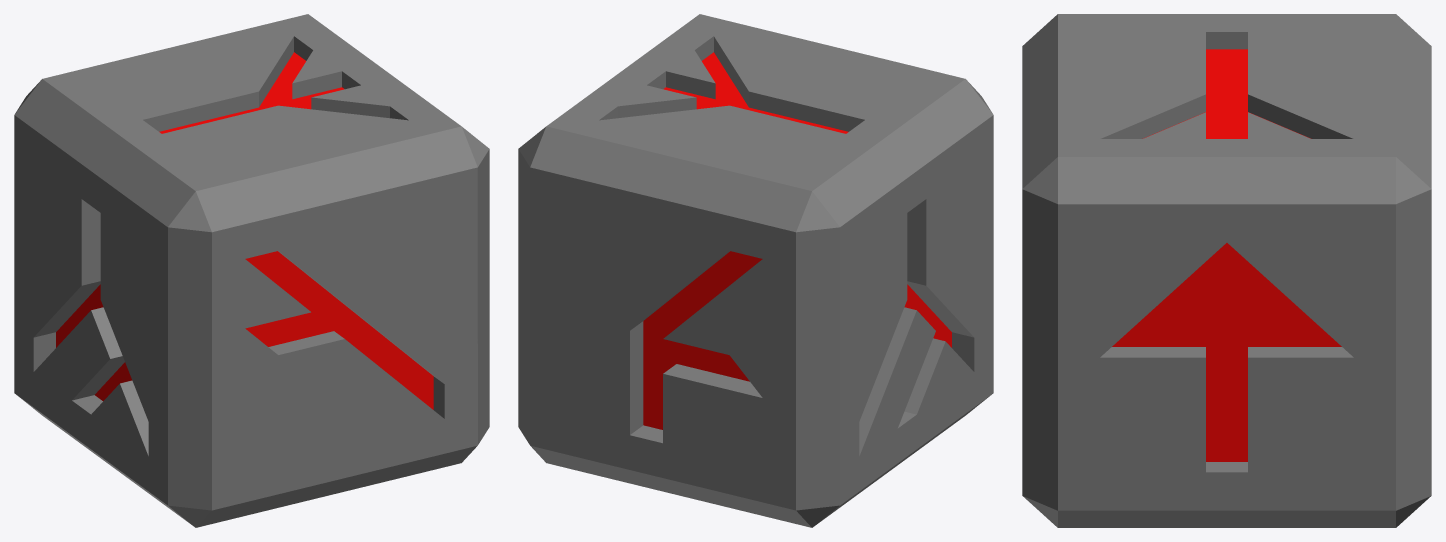
File: puzzle_cube.fbx
3 renders of one model, left to right at view 1: azimuth 30°, elevation 25°; view 2: azimuth 150°, elevation 25°; view 3: azimuth 270°, elevation 25°, orthographic. The views are drawn at different scales.
Parts seen in each view (by area): view 1: Cube; view 2: Cube; view 3: Cube.
Boxes of the visible parts, x1,y1,x2,y2 form: Cube: (14, 14, 489, 527); Cube: (518, 14, 993, 527); Cube: (1022, 14, 1431, 527).
Bounding box in the file's own units: 36.15 × 36.15 × 36.15.
